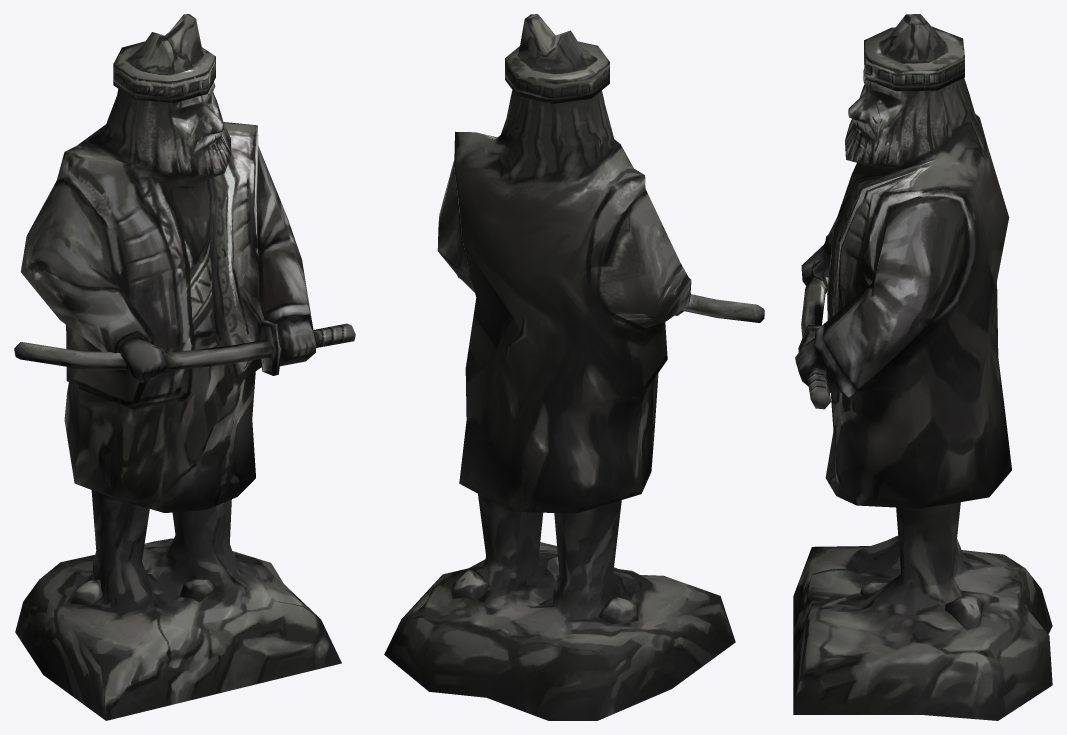
The model's file is PRP_CaveStatueHalfC.FBX.
3 renders of one model, left to right at view 1: azimuth 30°, elevation 25°; view 2: azimuth 150°, elevation 25°; view 3: azimuth 270°, elevation 25°, orthographic. The views are drawn at different scales.
Parts seen in each view (by area): view 1: PRP_CaveStatueHalfC; view 2: PRP_CaveStatueHalfC; view 3: PRP_CaveStatueHalfC.
Boxes of the visible parts, x1,y1,x2,y2 form: PRP_CaveStatueHalfC: [14, 14, 355, 720]; PRP_CaveStatueHalfC: [384, 14, 764, 720]; PRP_CaveStatueHalfC: [793, 14, 1052, 720].
Size of the model in its own units: 202 by 383 by 139.
1 material, 1 textured.
